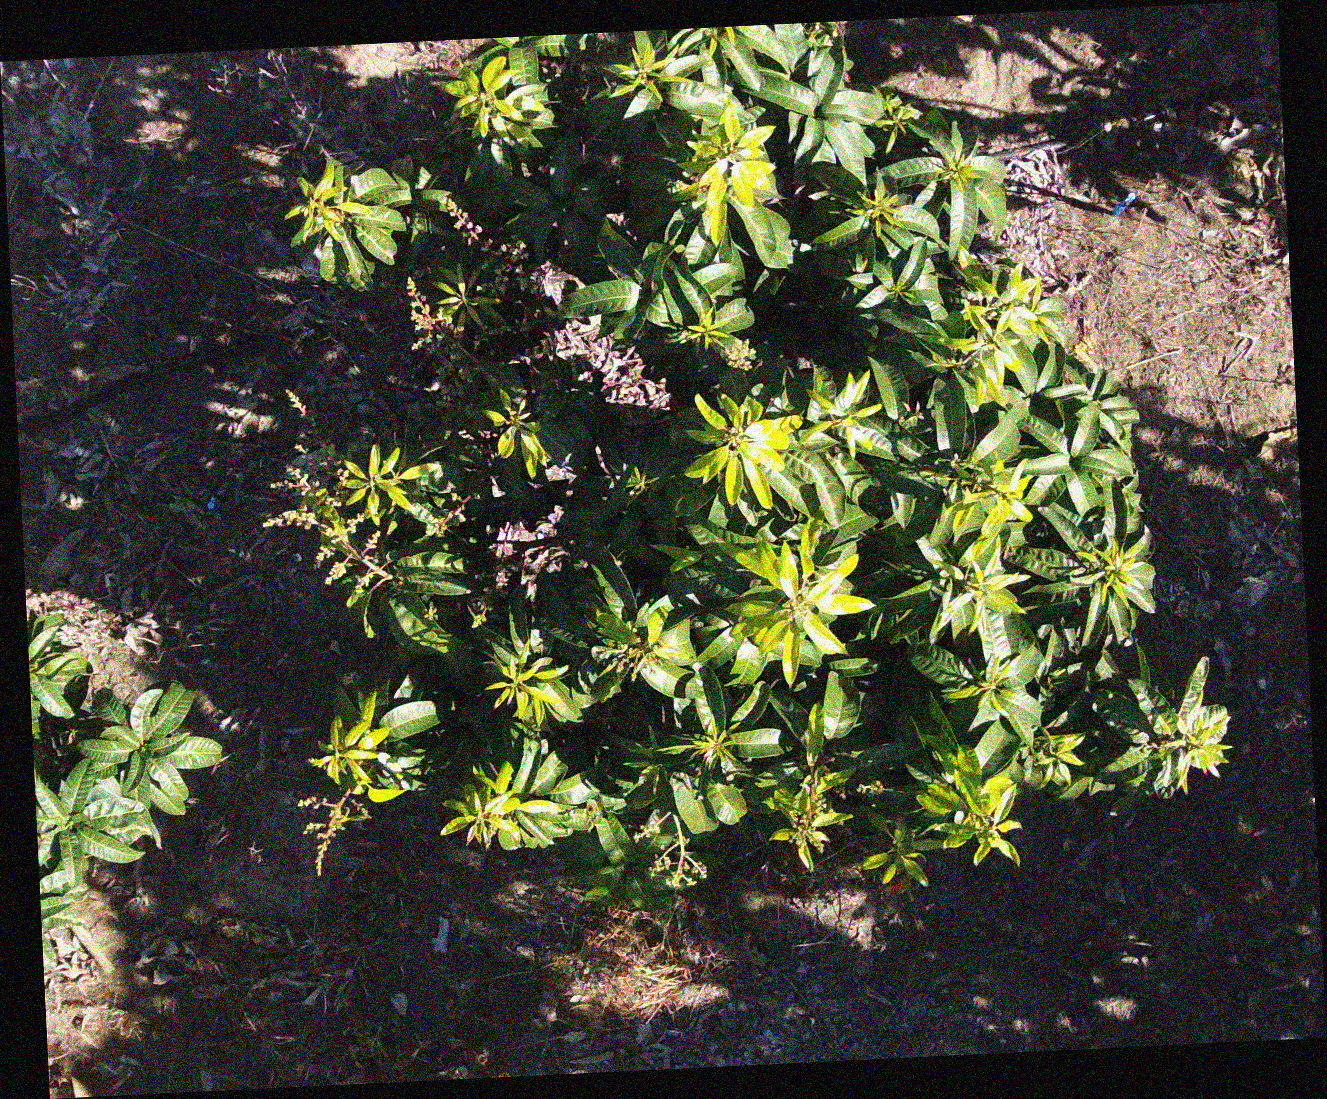flowers: (299, 693, 414, 869), (270, 467, 392, 606), (769, 704, 846, 869), (409, 276, 473, 376), (424, 493, 475, 537), (447, 195, 482, 245), (721, 340, 756, 371), (285, 389, 306, 418)
